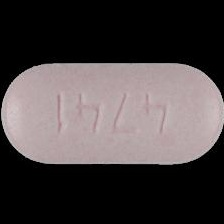10544-149: (0, 0, 224, 224)
